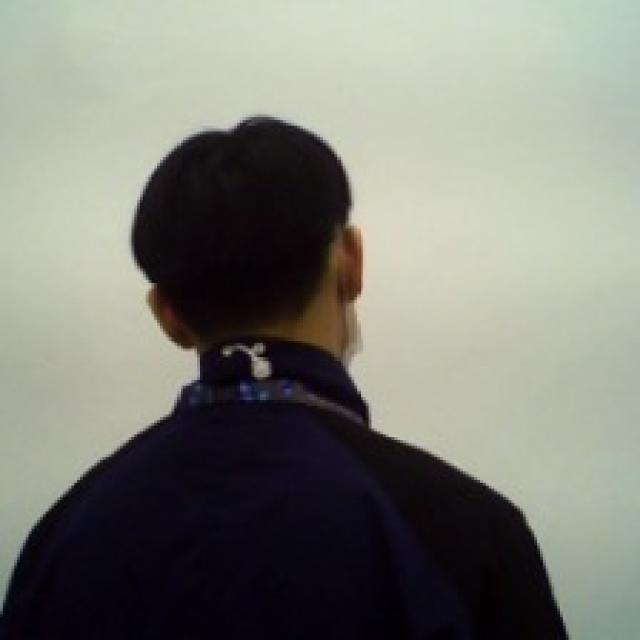no_gloves: (130, 109, 370, 352)
